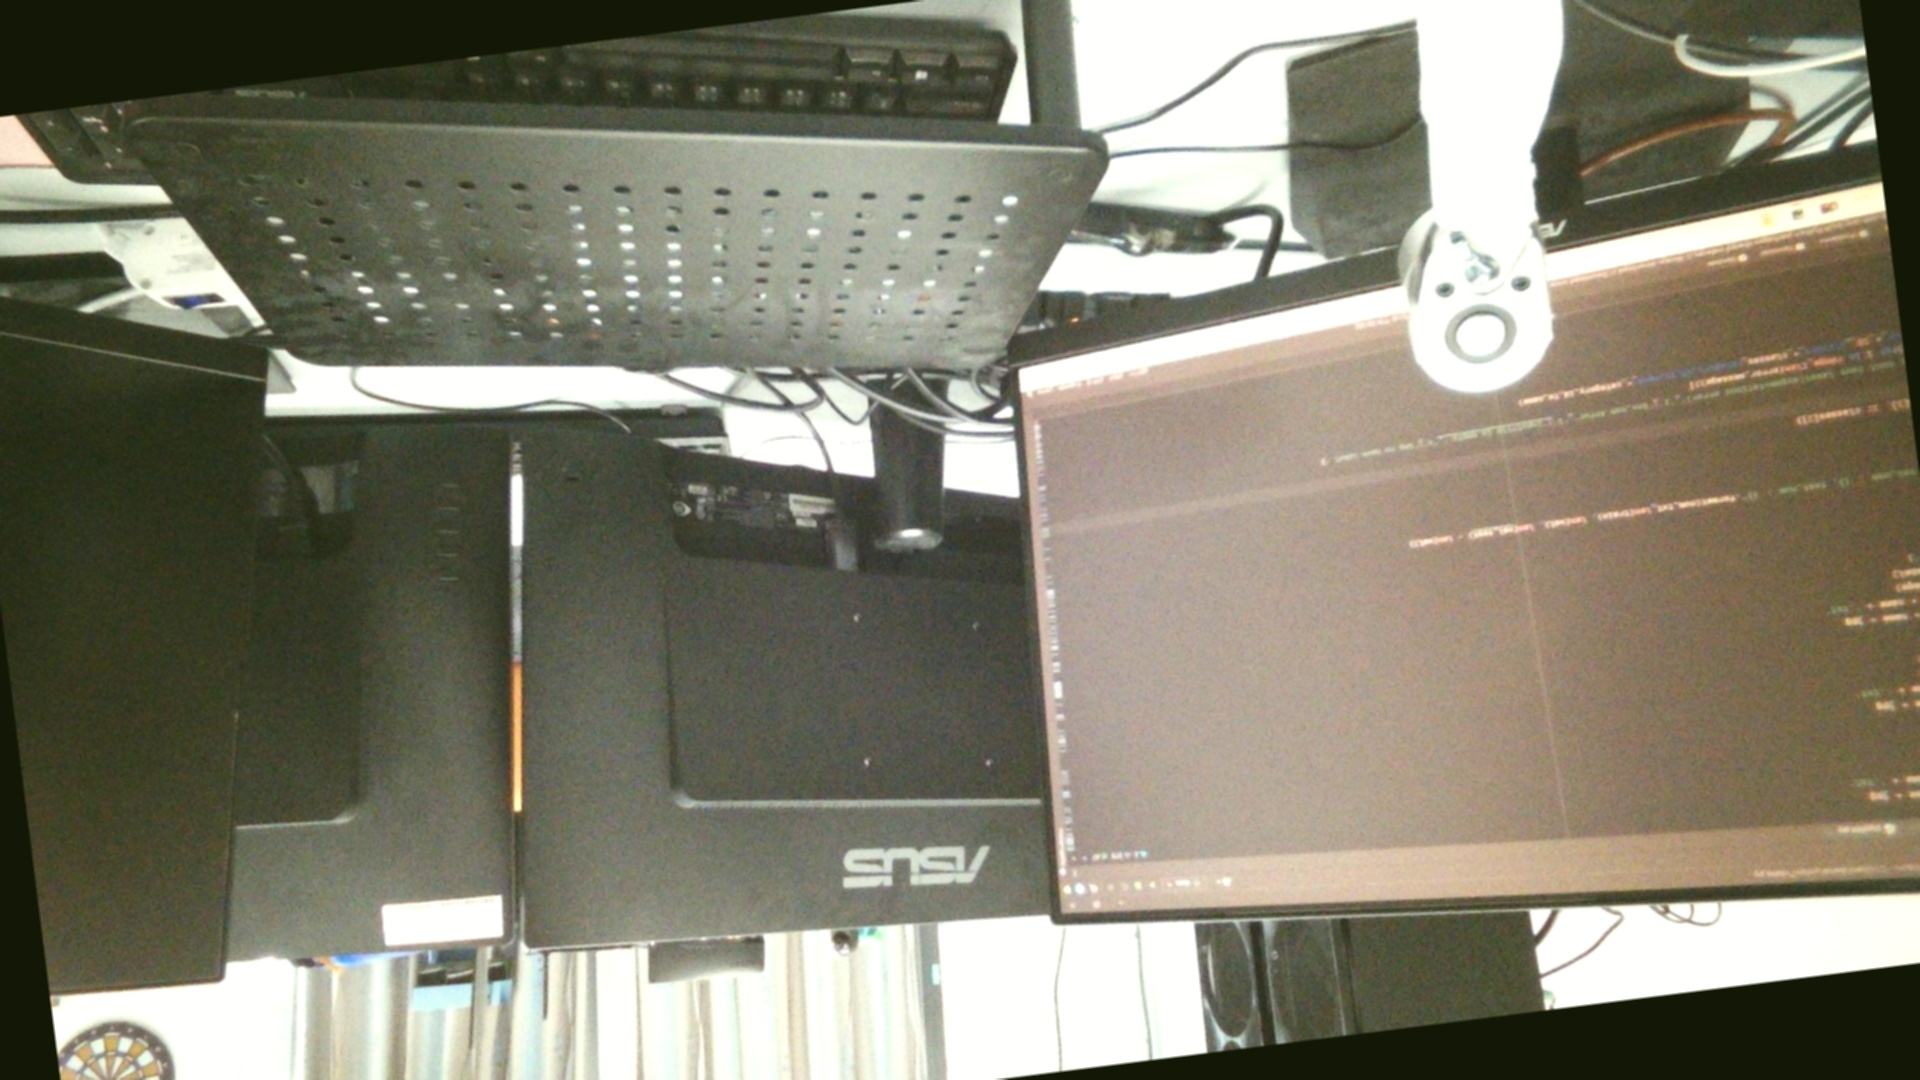wrench: (1437, 299, 1524, 375)
